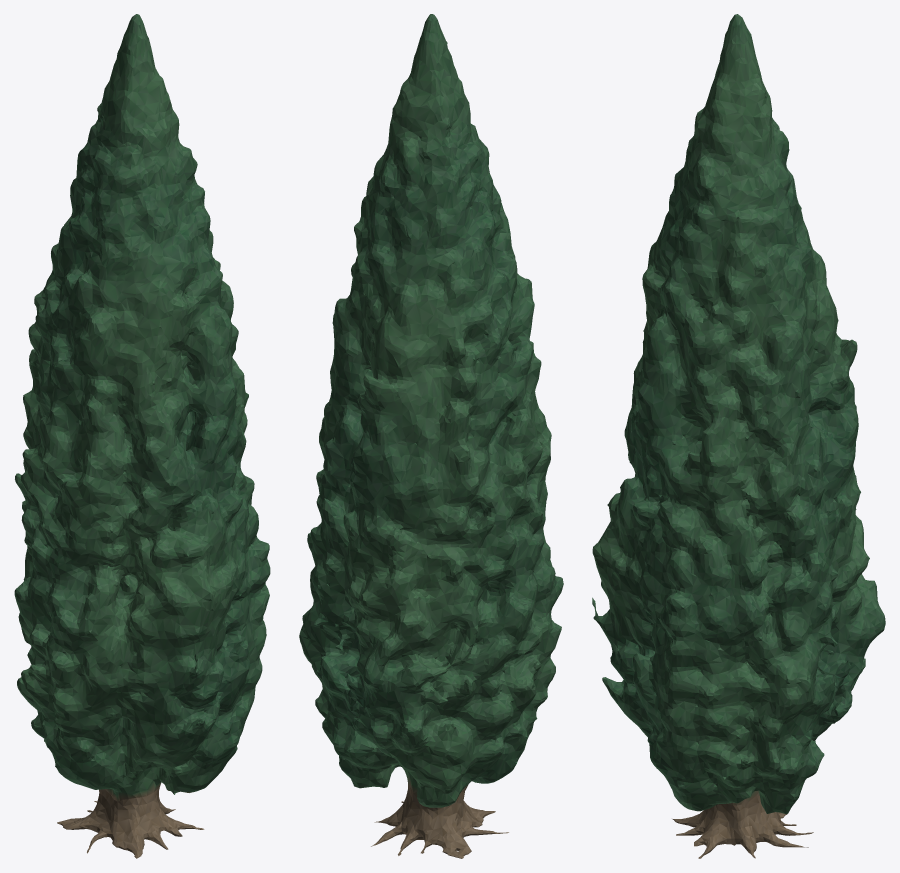
File: cypress_tree.glb
3 views of the same model, side by side, from view 1: azimuth 30°, elevation 25°; view 2: azimuth 150°, elevation 25°; view 3: azimuth 270°, elevation 25° (orthographic).
Parts seen in each view (by area): view 1: world; view 2: world; view 3: world.
Boxes of the visible parts, x1,y1,x2,y2 form: world: (14, 14, 270, 858); world: (299, 14, 563, 858); world: (592, 14, 885, 858).
Size of the model in its own units: 1.53 by 5.5 by 1.78.
